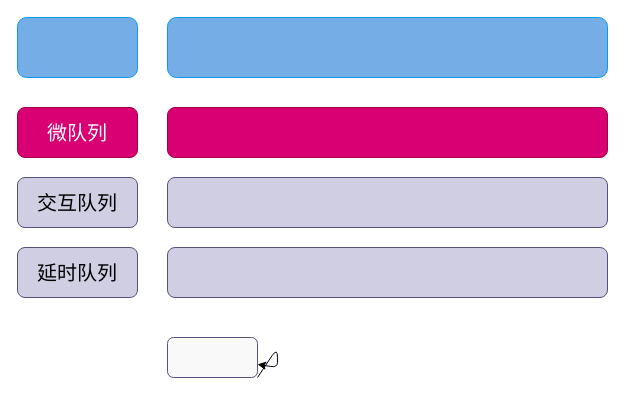
Image size: 625x403. Some labels were removed from this diagram. The box of each missing label's shape, as (x1, y1, x2, y2) in pixels:
fn: (166, 336, 258, 378)
渲染主线程: (16, 16, 138, 78)
